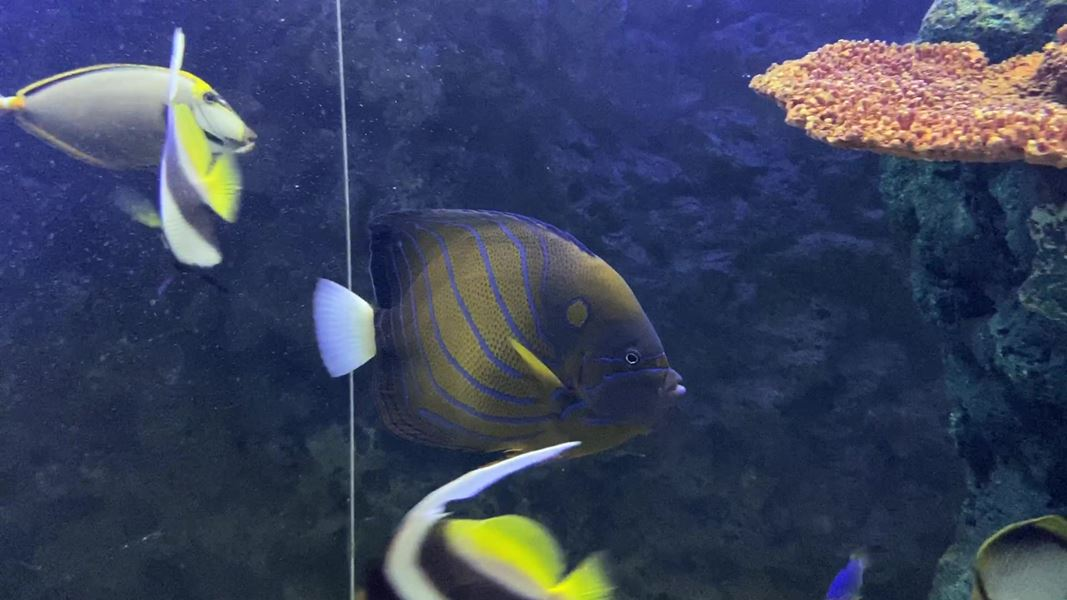Blue ring angelfish: (299, 177, 711, 468)
